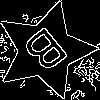B: (20, 25, 77, 82)
